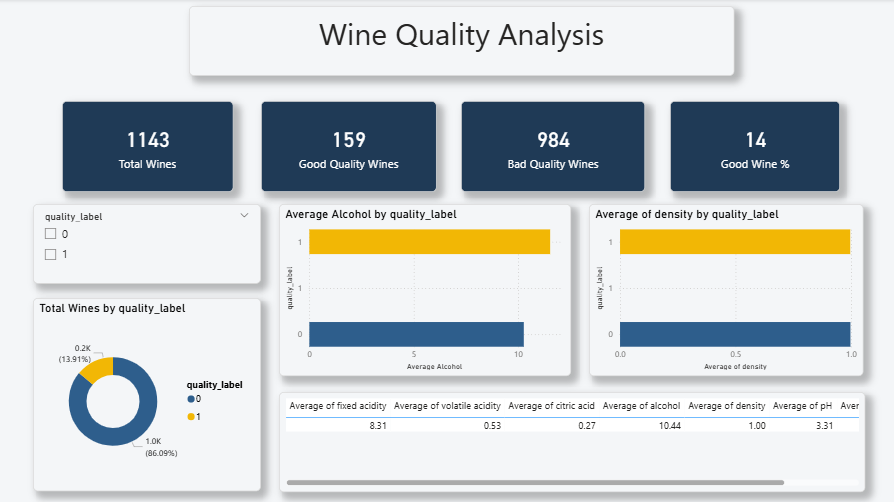

The dashboard page shown, as its layout file describes it:
{"tool":"powerbi","page":{"name":"Page 1","canvas":[1280,720],"ordinal":0},"visuals":[{"type":"card","fields":{"Values":["Wine_new.Total Wines"]},"box":[92.9,144.3,242.9,128.6],"z":0},{"type":"card","fields":{"Values":["Wine_new.Good Quality Wines"]},"box":[375.7,144.3,248.6,128.6],"z":1000},{"type":"card","fields":{"Values":["Wine_new.Bad Quality Wines"]},"box":[658.6,144.3,261.4,128.6],"z":2000},{"type":"card","fields":{"Values":["Wine_new.Good Wine %"]},"box":[955.7,144.3,241.4,128.6],"z":3000},{"type":"donutChart","fields":{"Category":["Wine_new.quality_label"],"Y":["Wine_new.Total Wines"]},"box":[52.9,424.3,322.9,274.3],"z":4000},{"type":"barChart","fields":{"Category":["Wine_new.quality_label"],"Y":["Wine_new.Average Alcohol"]},"box":[401.4,290,414.3,244.3],"z":5000},{"type":"barChart","fields":{"Y":["Avg(Wine_new.density)"],"Category":["Wine_new.quality_label"]},"box":[840,290,388.6,244.3],"z":6000},{"type":"tableEx","fields":{"Values":["Avg(Wine_new.fixed acidity)","Avg(Wine_new.volatile acidity)","Avg(Wine_new.citric acid)","Avg(Wine_new.alcohol)","Avg(Wine_new.density)","Avg(Wine_new.pH)","Avg(Wine_new.quality_label)"]},"box":[401.1,557,830.6,141.7],"z":7000},{"type":"slicer","fields":{"Values":["Wine_new.quality_label"]},"box":[52.9,290,322.9,112.9],"z":8000},{"type":"textbox","box":[272.9,10,772.9,98.6],"z":9000}]}

Visuals, with their boxes in screenshot pixels (x1, y1, x2, y2), scaled from the page's 1280x720 canvas onto the 894x502 screenshot:
card - Wine_new.Total Wines: [65,101,235,190]
card - Wine_new.Good Quality Wines: [262,101,436,190]
card - Wine_new.Bad Quality Wines: [460,101,643,190]
card - Wine_new.Good Wine %: [667,101,836,190]
donutChart - Wine_new.quality_label x Wine_new.Total Wines: [37,296,262,487]
barChart - Wine_new.quality_label x Wine_new.Average Alcohol: [280,202,570,373]
barChart - Avg(Wine_new.density) x Wine_new.quality_label: [587,202,858,373]
tableEx - Avg(Wine_new.fixed acidity) x Avg(Wine_new.volatile acidity): [280,388,860,487]
slicer - Wine_new.quality_label: [37,202,262,281]
textbox: [191,7,730,76]
